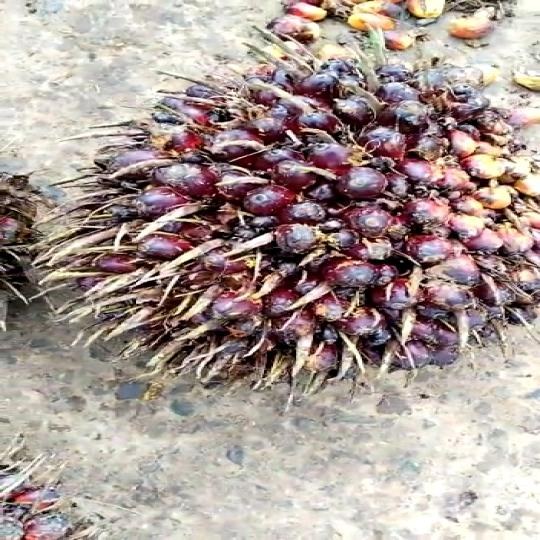masak: (50, 51, 540, 403)
